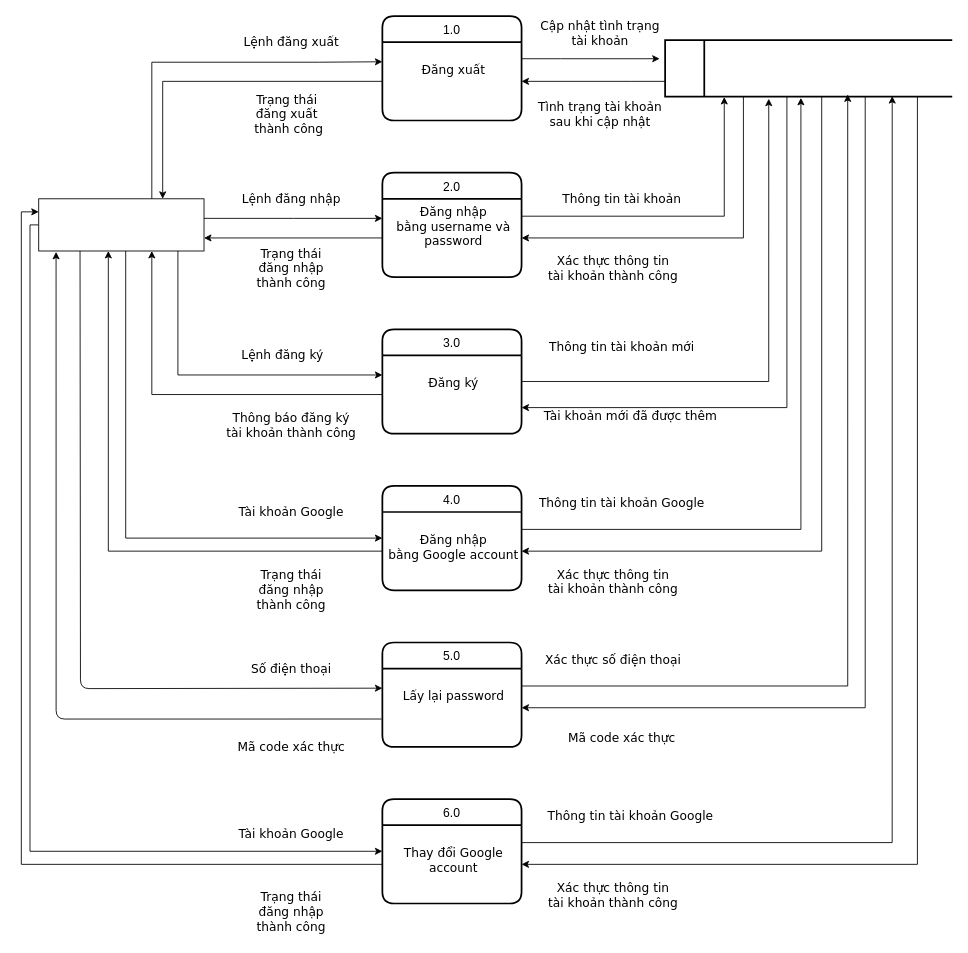
Some shapes in this 968 by 953 pixel diagram are drawn without their labels. The box of each missing label's shape, as (x1, y1, x2, y2) in pixels:
Tài khoản: (664, 39, 953, 97)
User: (38, 198, 204, 251)
